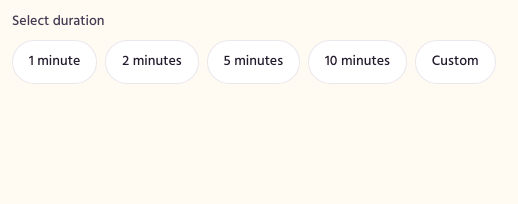
Test: DurationPicker › rejects a custom duration above the 30-minute maximum
Click the button "Custom". click: (455, 62)
box: left=415, top=40, right=496, bottom=84
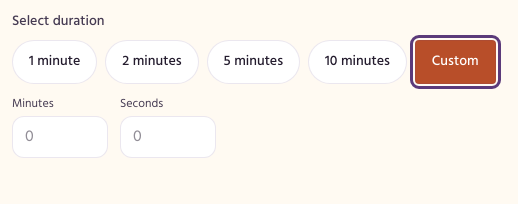
Type "31" into the number field labelled "Minutes". click: (60, 137)
box: left=12, top=116, right=108, bottom=158
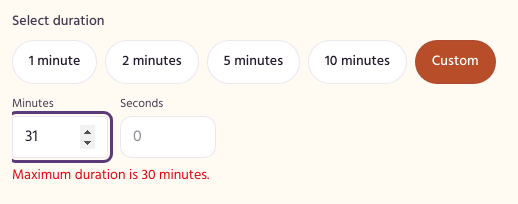
expect the message reads "Maximum duration is 30 minutes.": met, box left=12, top=164, right=209, bottom=187
